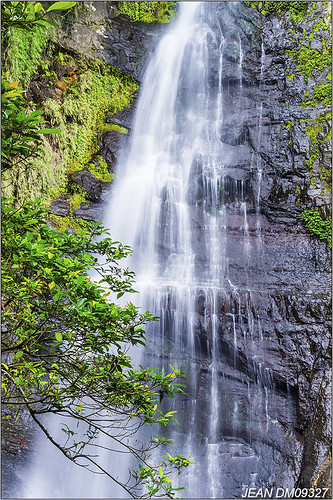wufengciWaterfall: (85, 11, 290, 416)
